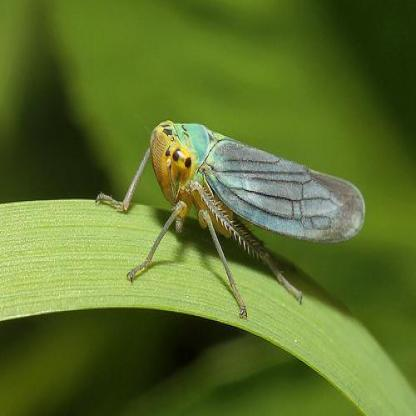Green-Leafhopper: (95, 116, 369, 329)
